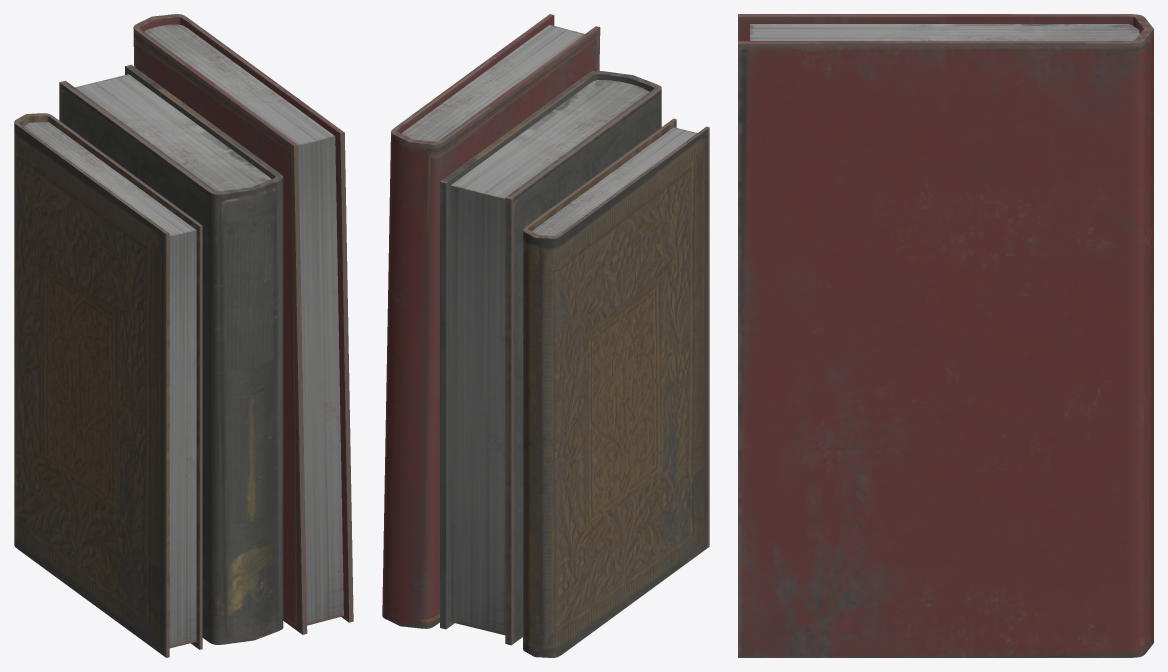
Rendered from SM_BookSet_A2.fbx.
3 views of the same model, side by side, from view 1: azimuth 30°, elevation 25°; view 2: azimuth 150°, elevation 25°; view 3: azimuth 270°, elevation 25° (orthographic). The views are drawn at different scales.
Parts seen in each view (by area): view 1: SM_BookSet_A2; view 2: SM_BookSet_A2; view 3: SM_BookSet_A2.
Part boxes in pixels (left/top/right/bottom): SM_BookSet_A2: left=14, top=14, right=353, bottom=657; SM_BookSet_A2: left=382, top=14, right=709, bottom=657; SM_BookSet_A2: left=738, top=14, right=1153, bottom=657.
Bounding box in the file's own units: 9.63 × 15.64 × 25.34.
1 material, 1 textured.
